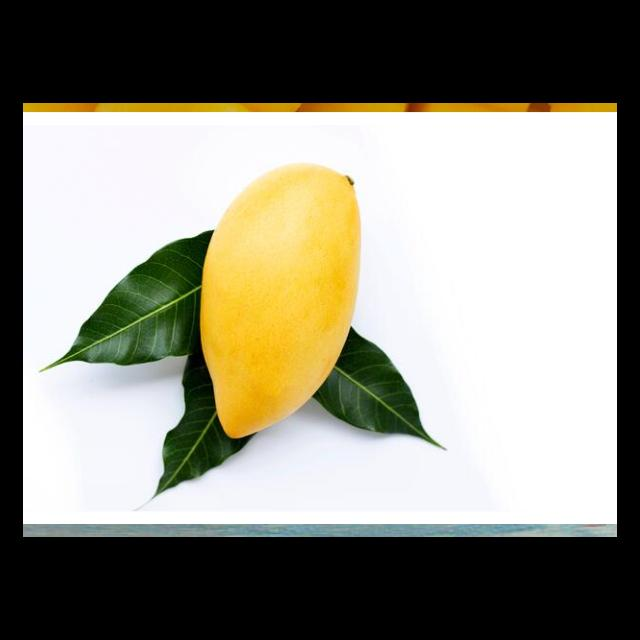mango: (199, 163, 362, 441)
